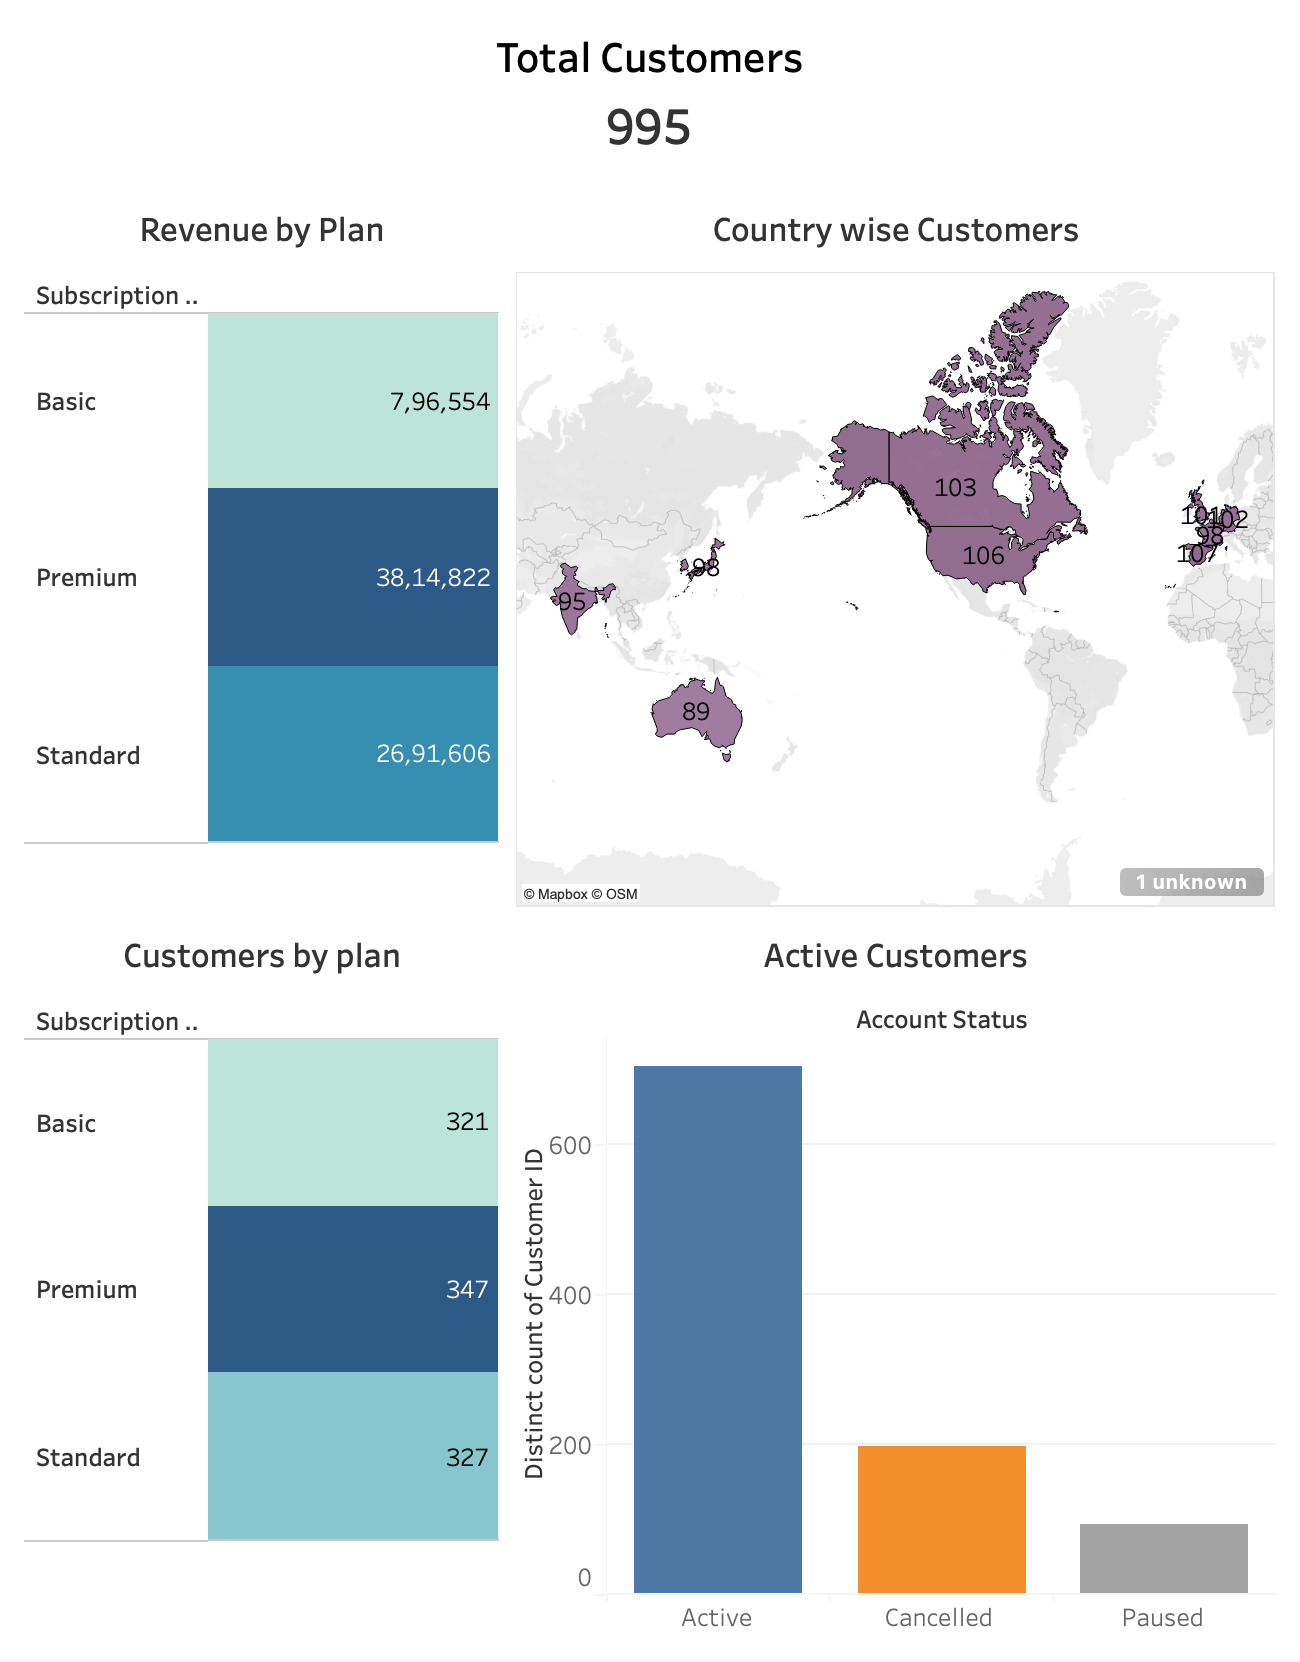

This screenshot's page, from the dashboard's own definition file:
{"tool":"tableau","page":{"name":"Dashboard 1","canvas":[650,860],"ordinal":0},"visuals":[{"type":"worksheet","title":"Total_Customers","mark":"Text","box":[8,8.3,634,92]},{"type":"worksheet","title":"Revenue_by_Plan","mark":"Square","rows":["Subscription_Plan (Revenue!by!Plan)"],"box":[8,100.3,246,342.1]},{"type":"worksheet","title":"Country_Wise_Customers","mark":"Multipolygon","box":[254,100.3,388,375.7]},{"type":"worksheet","title":"Customers_by_plan","mark":"Square","rows":["Subscription_Plan (Customers!by!Plan)"],"box":[8,475.5,246,327.7]},{"type":"worksheet","title":"Active_Customers","mark":"Automatic","rows":["Customer_ID"],"cols":["Account_Status"],"box":[254,476,388,375.8]}]}

Visuals, with their boxes on the page's 650x860 design canvas (x1, y1, x2, y2). These are canvas units, not pixel positions in the 1300x1662 screenshot, which may show the page scaled, cropped or inside an application window:
"Total_Customers" worksheet (Text marks): crop(8, 8, 642, 100)
"Revenue_by_Plan" worksheet (Square marks): crop(8, 100, 254, 442)
"Country_Wise_Customers" worksheet (Multipolygon marks): crop(254, 100, 642, 476)
"Customers_by_plan" worksheet (Square marks): crop(8, 476, 254, 803)
"Active_Customers" worksheet: crop(254, 476, 642, 852)
